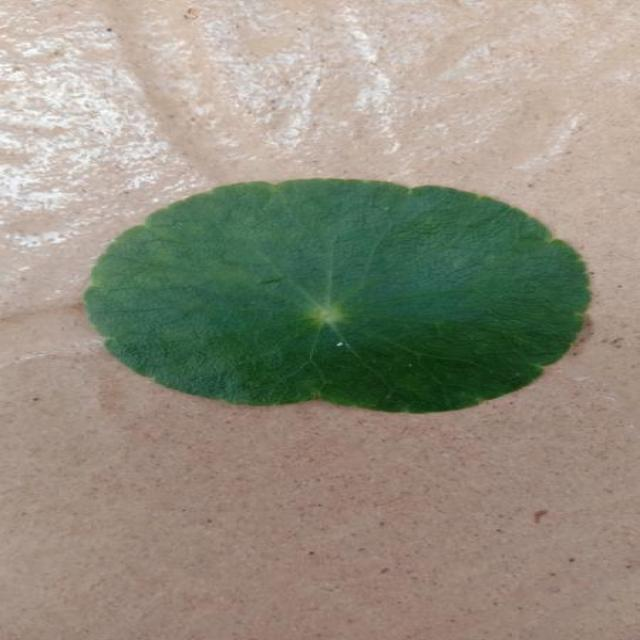bhrami: (67, 171, 575, 424)
